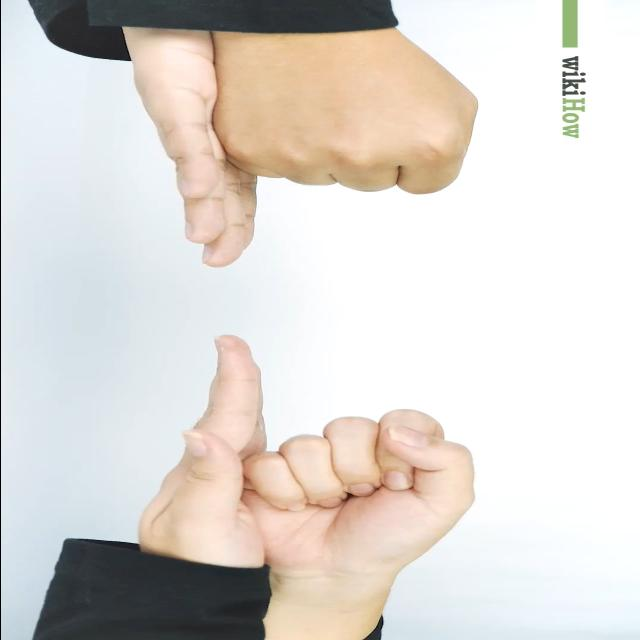Rock: (214, 30, 482, 196), (241, 409, 480, 581)
